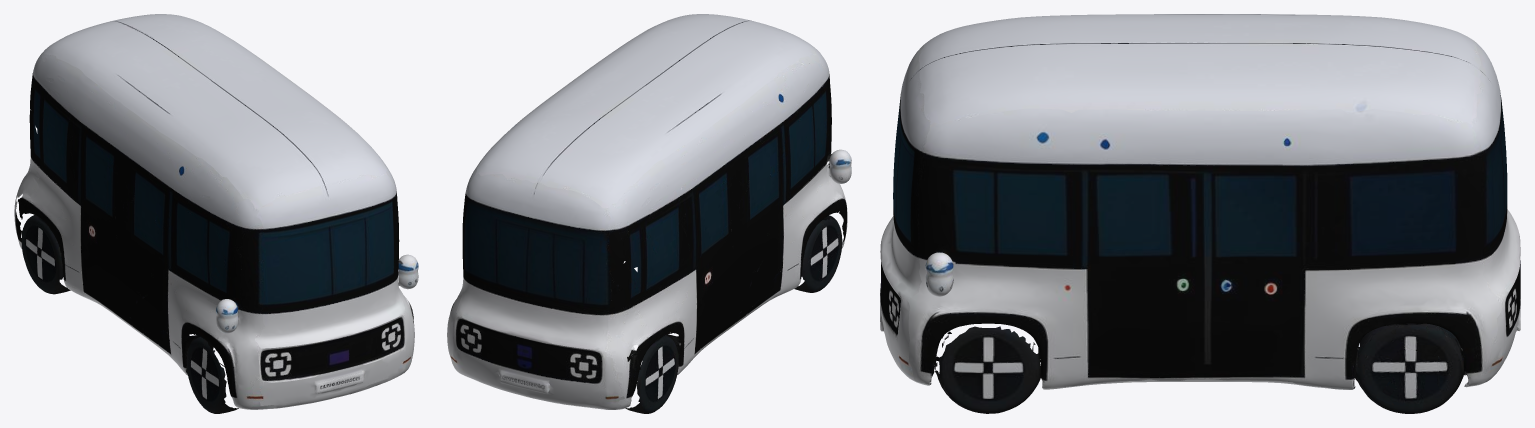
File: roii_body_clean.glb
3 renders of one model, left to right at view 1: azimuth 30°, elevation 25°; view 2: azimuth 150°, elevation 25°; view 3: azimuth 270°, elevation 25°, orthographic. The views are drawn at different scales.
Parts seen in each view (by area): view 1: SIDE_L, ROOF, FASCIA_FRONT, FLOOR, WHEEL_RL, WHEEL_FL, FASCIA_REAR, SILL, SIDE_R; view 2: SIDE_L, FASCIA_REAR, ROOF, WHEEL_RL, WHEEL_FL, FASCIA_FRONT, SILL, SIDE_R; view 3: SIDE_R, ROOF, FASCIA_FRONT, FASCIA_REAR, WHEEL_FR, WHEEL_RR, SILL.
Boxes of the visible parts, x1,y1,x2,y2 form: SIDE_L: [14, 52, 265, 408]; ROOF: [43, 14, 387, 208]; FASCIA_FRONT: [194, 174, 418, 413]; FLOOR: [219, 359, 403, 409]; WHEEL_RL: [21, 215, 63, 293]; WHEEL_FL: [186, 337, 226, 413]; FASCIA_REAR: [20, 52, 70, 294]; SILL: [16, 218, 236, 404]; SIDE_R: [346, 123, 414, 364]; SIDE_L: [604, 51, 847, 408]; FASCIA_REAR: [447, 173, 672, 413]; ROOF: [475, 14, 819, 208]; WHEEL_RL: [636, 335, 679, 413]; WHEEL_FL: [801, 217, 842, 292]; FASCIA_FRONT: [794, 65, 851, 292]; SILL: [618, 230, 846, 404]; SIDE_R: [447, 131, 508, 361]; SIDE_R: [906, 108, 1502, 389]; ROOF: [918, 14, 1481, 125]; FASCIA_FRONT: [880, 45, 1027, 413]; FASCIA_REAR: [1362, 43, 1520, 413]; WHEEL_FR: [939, 326, 1040, 413]; WHEEL_RR: [1355, 323, 1461, 413]; SILL: [929, 331, 1470, 410].
Size of the model in its own units: 1.84 by 2.17 by 4.
Materials: 12 (12 with a texture image).
